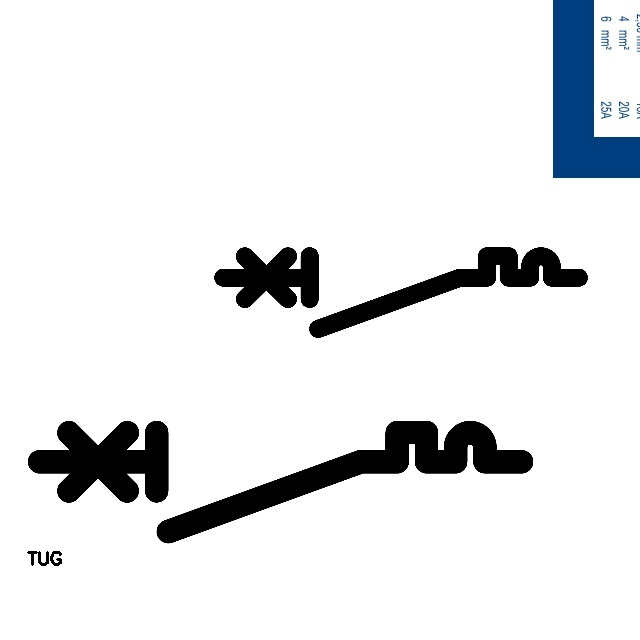interruptor_termomagnetico: (27, 420, 534, 544), (214, 247, 588, 338)
